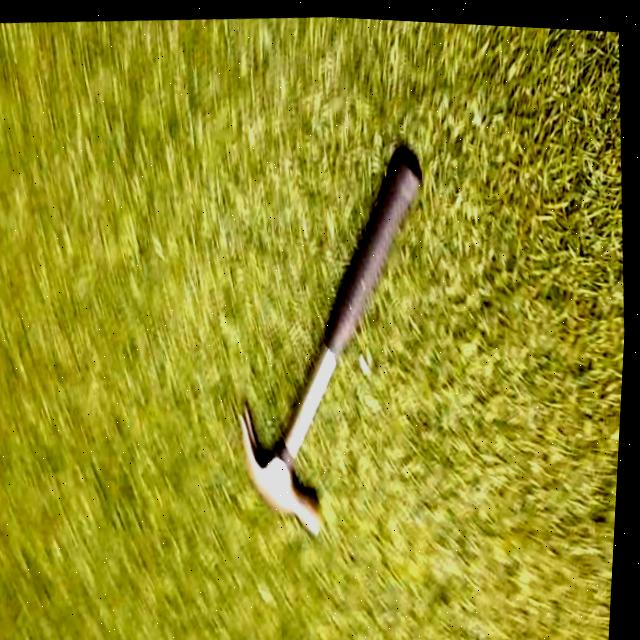hammer: (217, 134, 451, 541)
